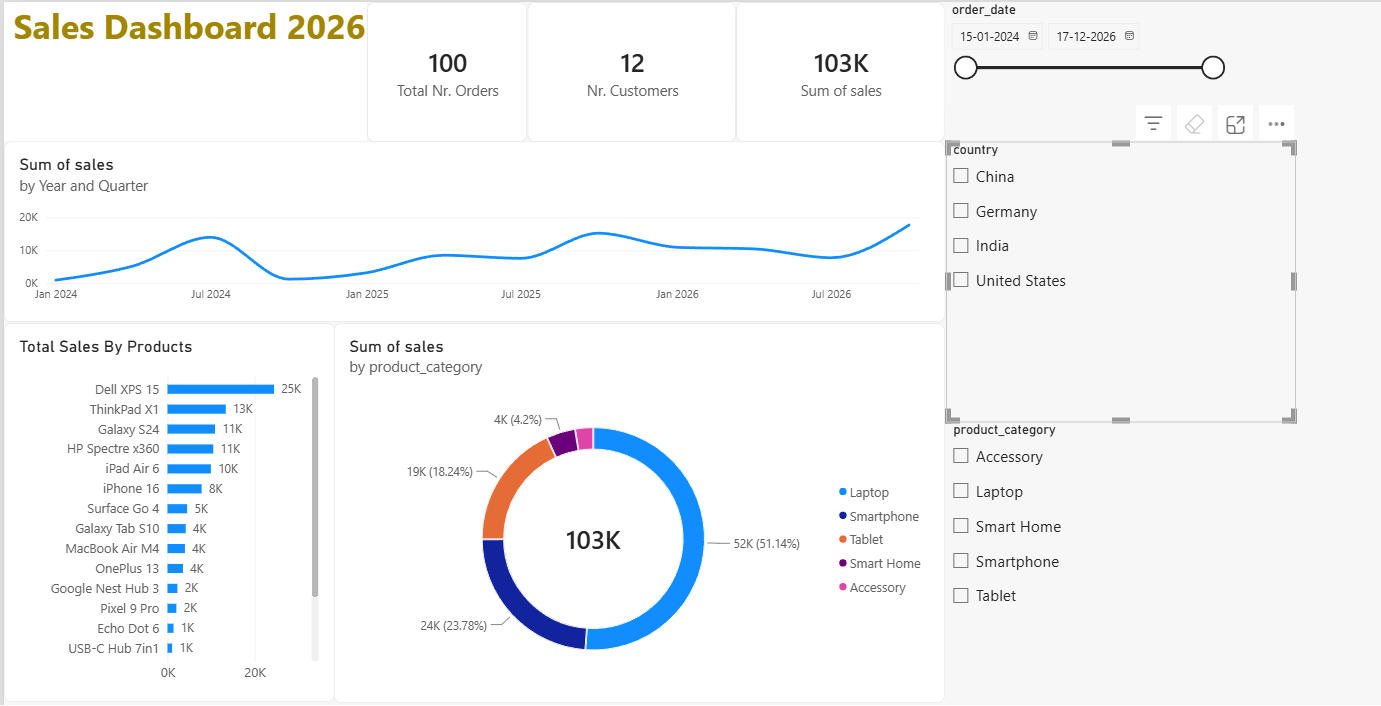

What the dashboard file says about the page in this screenshot:
{"tool":"powerbi","page":{"name":"Page 1","canvas":[1920,1080],"ordinal":0},"visuals":[{"type":"barChart","title":"Total Sales By Products","fields":{"Category":["orders.product_name"],"Y":["Sum(orders.sales)"]},"box":[0,350,361.4,414.3],"z":0},{"type":"donutChart","fields":{"Category":["orders.product_category"],"Y":["Sum(orders.sales)"]},"box":[361.4,350,667.5,415],"z":1000},{"type":"cardVisual","fields":{"Data":["CountNonNull(orders.order_id)"]},"box":[396.7,0,175,153.3],"z":2000},{"type":"cardVisual","fields":{"Data":["Count(orders.customer_id)"]},"box":[571.7,0,228.3,153.3],"z":3000},{"type":"cardVisual","fields":{"Data":["Sum(orders.sales)"]},"box":[800,0,228.3,153.3],"z":4000},{"type":"lineChart","fields":{"Category":["orders.order_date.Variation.Date Hierarchy.Year","orders.order_date.Variation.Date Hierarchy.Quarter","orders.order_date.Variation.Date Hierarchy.Month","orders.order_date.Variation.Date Hierarchy.Day"],"Y":["Sum(orders.sales)"]},"box":[0,152.9,1028.6,197.1],"z":5000},{"type":"slicer","fields":{"Values":["customers.country"]},"box":[1030,151.7,381.7,306.7],"z":6000},{"type":"slicer","fields":{"Values":["orders.product_category"]},"box":[1030,458.3,381.7,306.7],"z":7000},{"type":"slicer","fields":{"Values":["orders.order_date"]},"box":[1028.3,0,310,151.7],"z":8000},{"type":"textbox","box":[1407,0,310,152],"z":9000},{"type":"textbox","box":[0,0,396.7,151.7],"z":10000}]}

Visuals, with their boxes on the page's 1920x1080 design canvas (x1, y1, x2, y2). These are canvas units, not pixel positions in the 1381x706 screenshot, which may show the page scaled, cropped or inside an application window:
"Total Sales By Products" barChart: left=0, top=350, right=361, bottom=764
donutChart - orders.product_category x Sum(orders.sales): left=361, top=350, right=1029, bottom=765
cardVisual - CountNonNull(orders.order_id): left=397, top=0, right=572, bottom=153
cardVisual - Count(orders.customer_id): left=572, top=0, right=800, bottom=153
cardVisual - Sum(orders.sales): left=800, top=0, right=1028, bottom=153
lineChart - orders.order_date.Variation.Date Hierarchy.Year x orders.order_date.Variation.Date Hierarchy.Quarter: left=0, top=153, right=1029, bottom=350
slicer - customers.country: left=1030, top=152, right=1412, bottom=458
slicer - orders.product_category: left=1030, top=458, right=1412, bottom=765
slicer - orders.order_date: left=1028, top=0, right=1338, bottom=152
textbox: left=1407, top=0, right=1717, bottom=152
textbox: left=0, top=0, right=397, bottom=152
